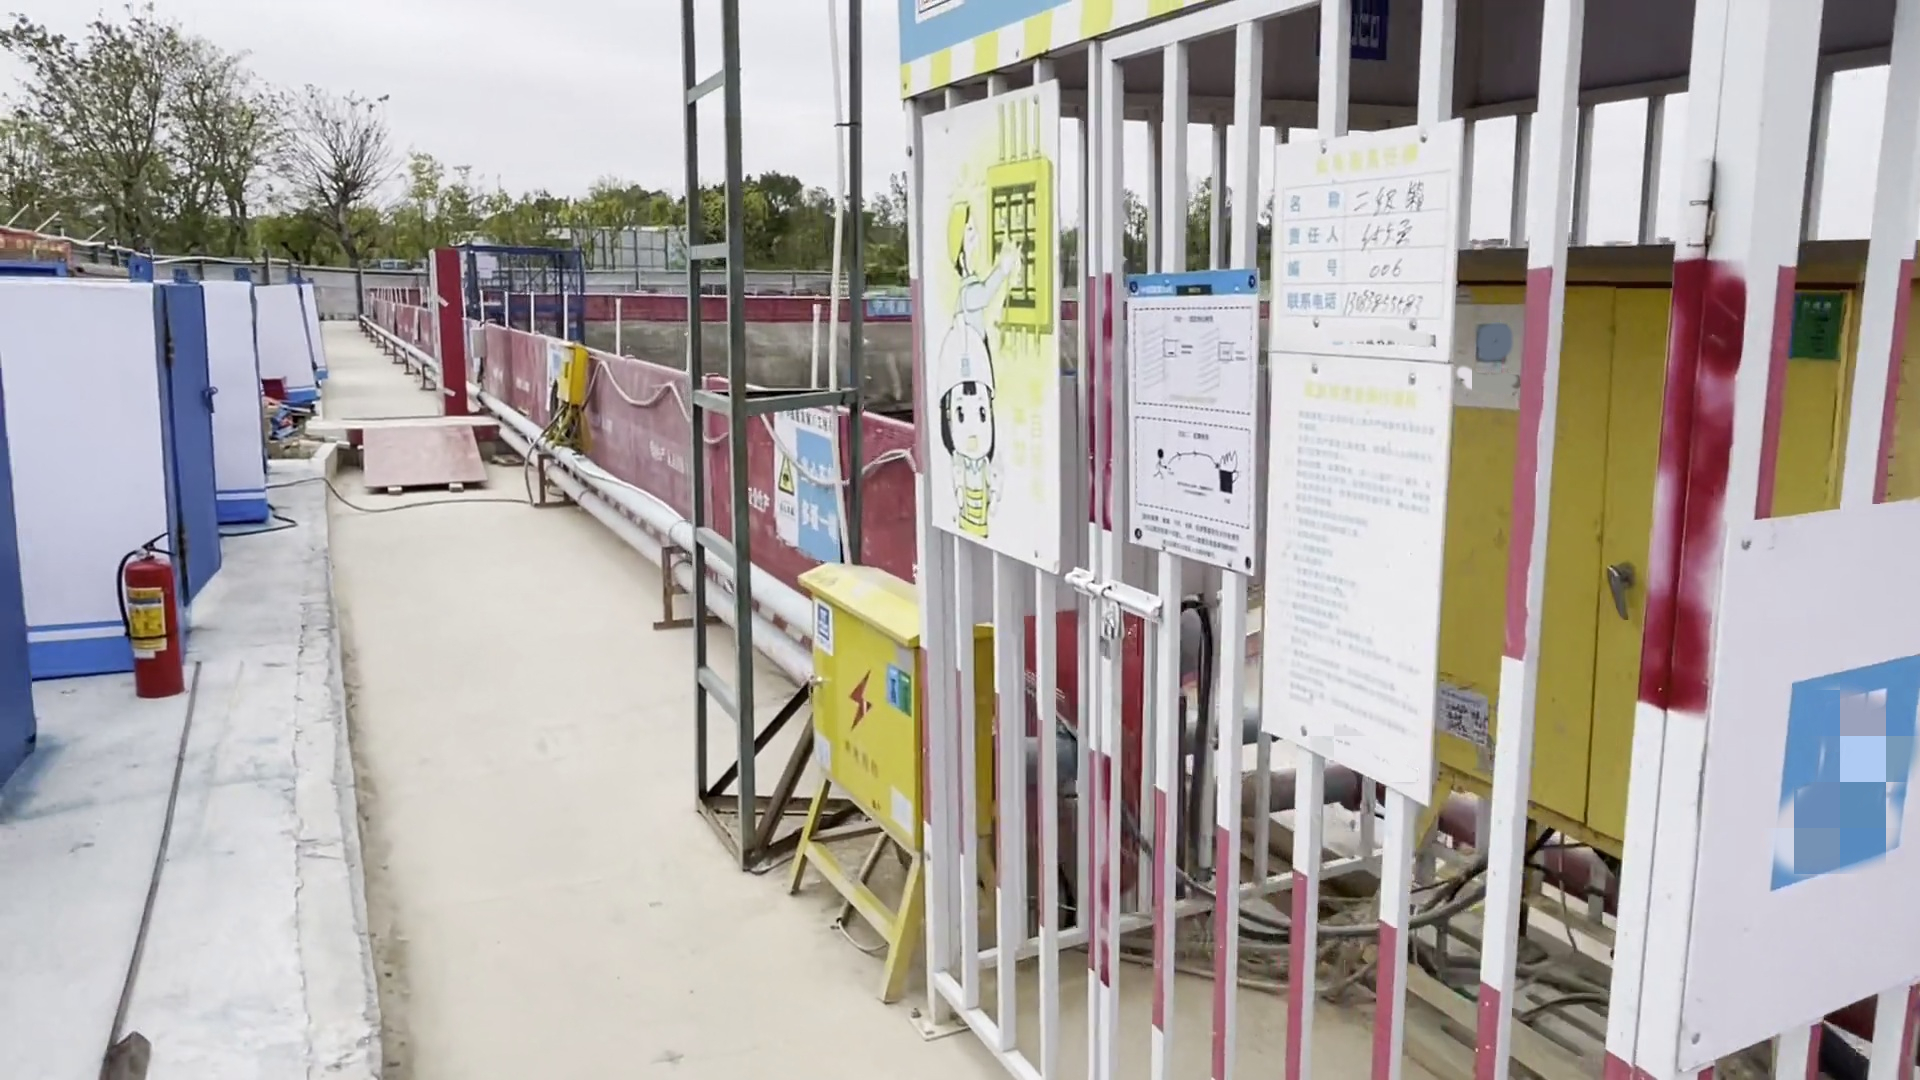board: (357, 418, 504, 508)
ebox: (1458, 237, 1896, 844), (785, 533, 936, 1023), (553, 342, 593, 438)
slogan: (907, 82, 1085, 582), (745, 405, 858, 568)
